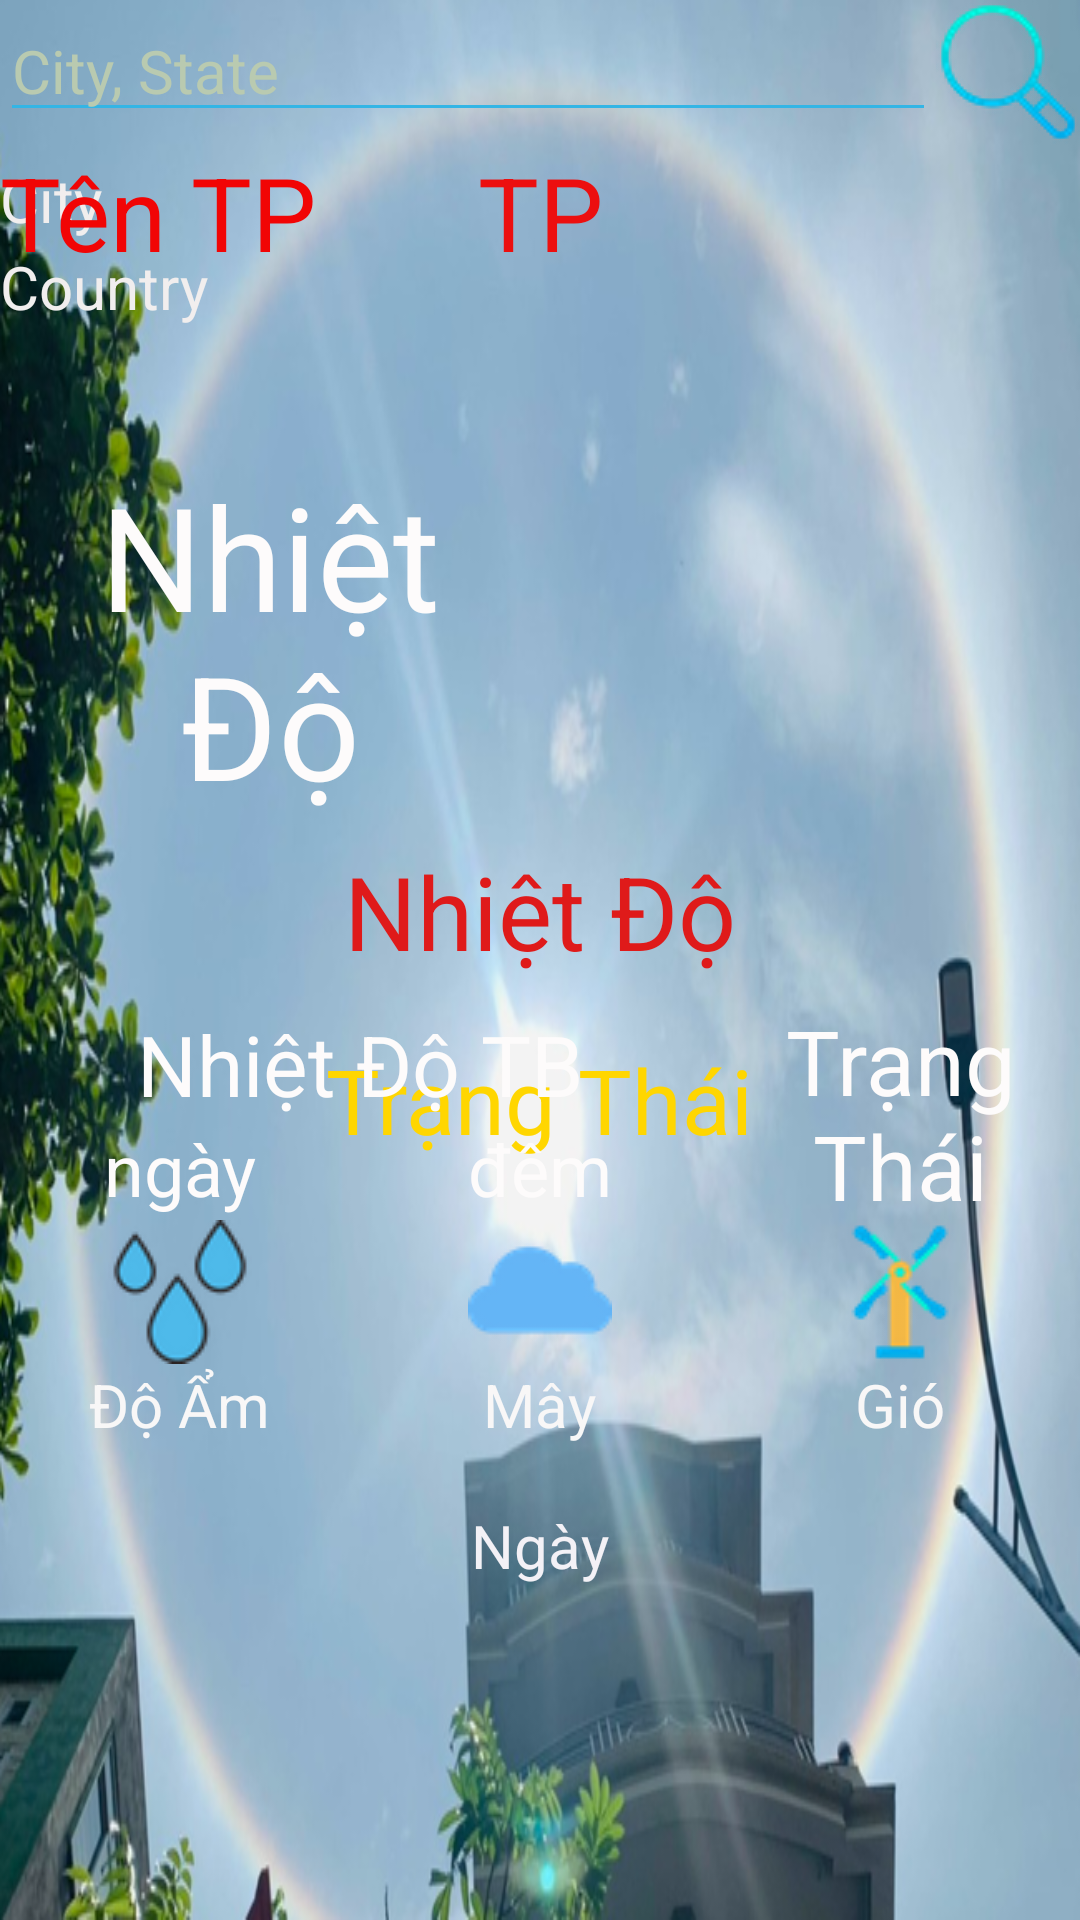

Named icons in this screenshot (1080 × 1920) and their centers, [x,y]:
rain drops: [180,1292]
search: [1008,72]
windmill: [888,1292]
